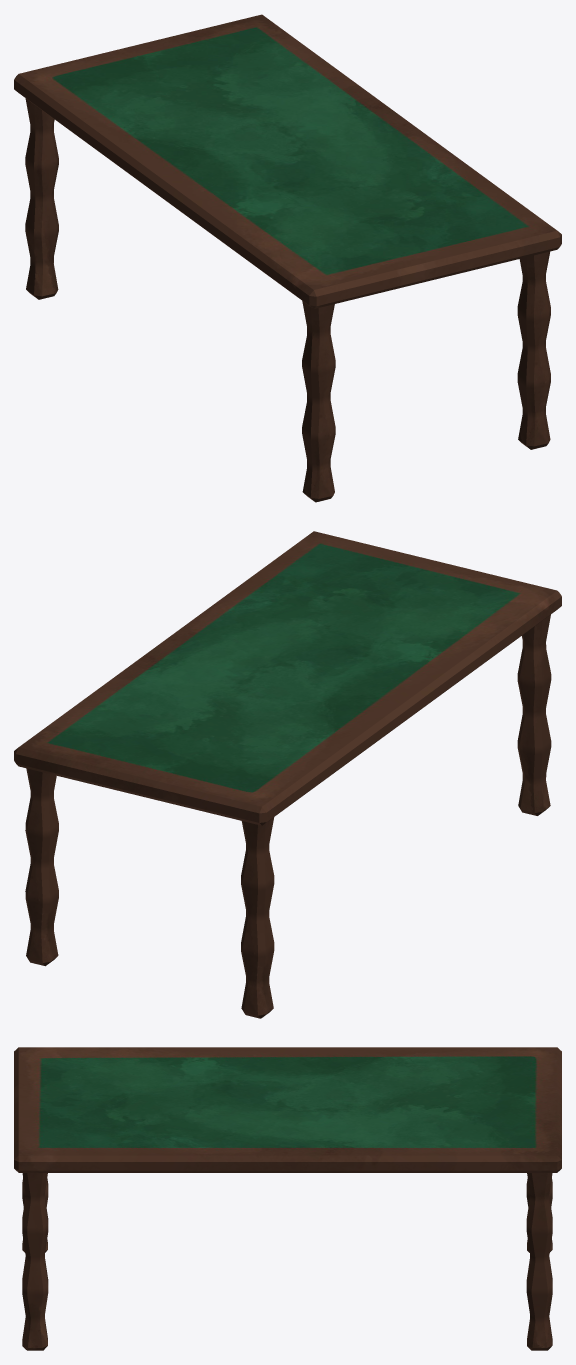
The model's file is table.fbx.
3 renders of one model, top to bottom at view 1: azimuth 30°, elevation 25°; view 2: azimuth 150°, elevation 25°; view 3: azimuth 270°, elevation 25°, orthographic. The views are drawn at different scales.
Visible parts, largest first — view 1: table; view 2: table; view 3: table.
Part boxes in pixels (box(x1,y1,x2,y2)): table: box(14, 14, 561, 502); table: box(14, 531, 561, 1018); table: box(14, 1047, 561, 1350).
Bounding box in the file's own units: 75.77 × 62.29 × 156.
